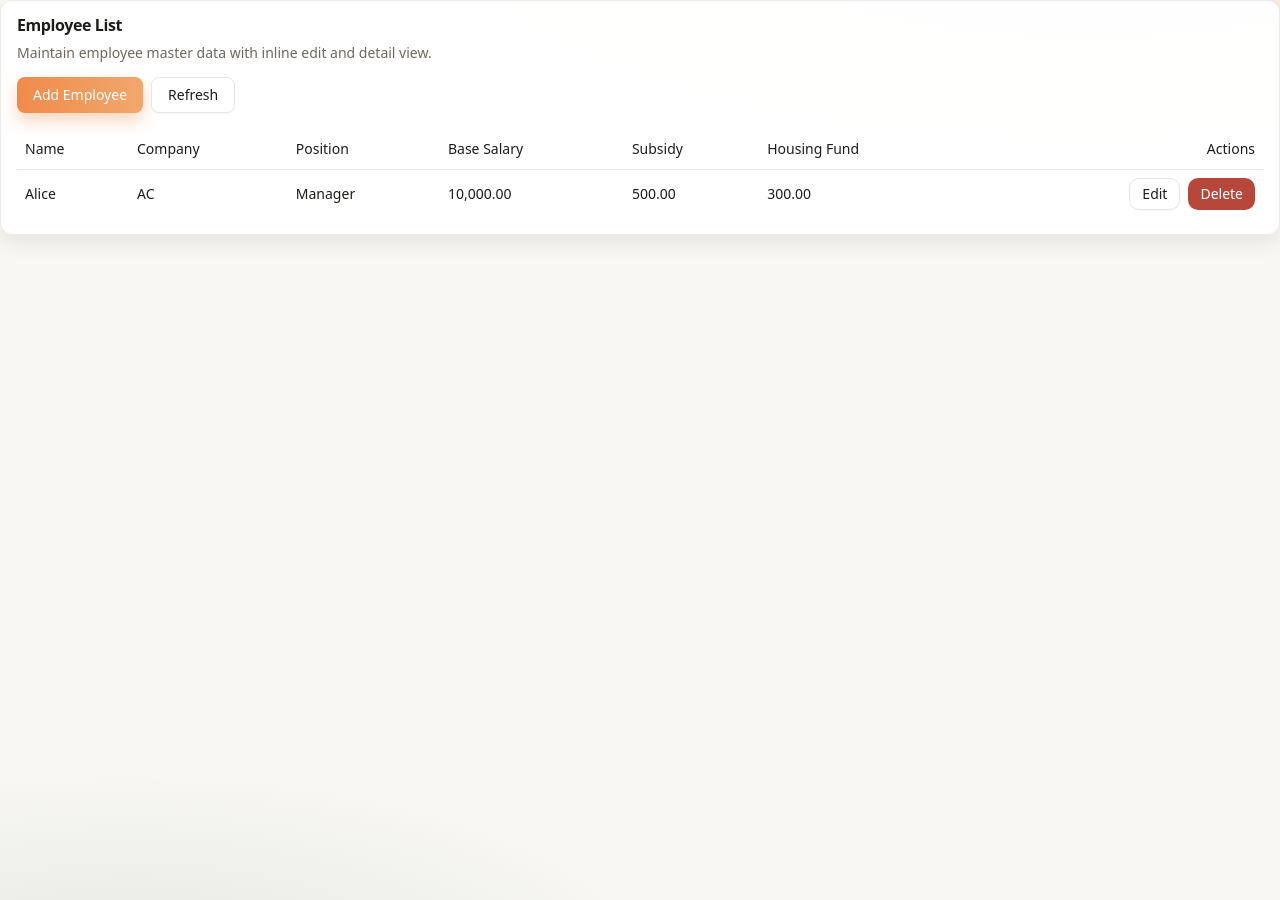
Test case: P1 employee list page › supports inline edit and persists list
Check: the text "Alice" is shown, box left=17, top=169, right=129, bottom=218
Click the button "Edit". click: [1155, 194]
box: left=1129, top=178, right=1180, bottom=210
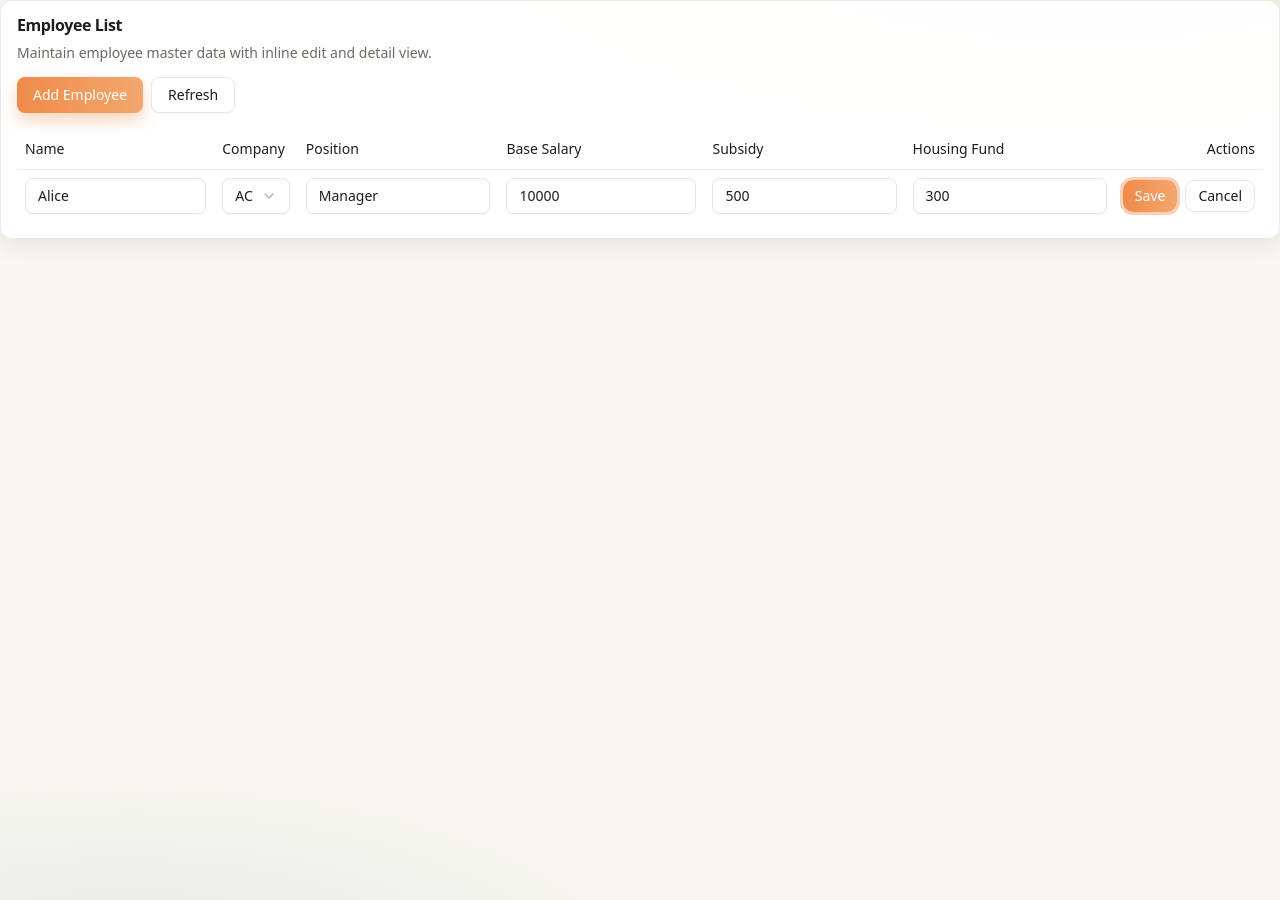
Replace the text in the 1st field showing "Alice" with "Alice Updated". click: [116, 196]
box: left=25, top=178, right=206, bottom=214
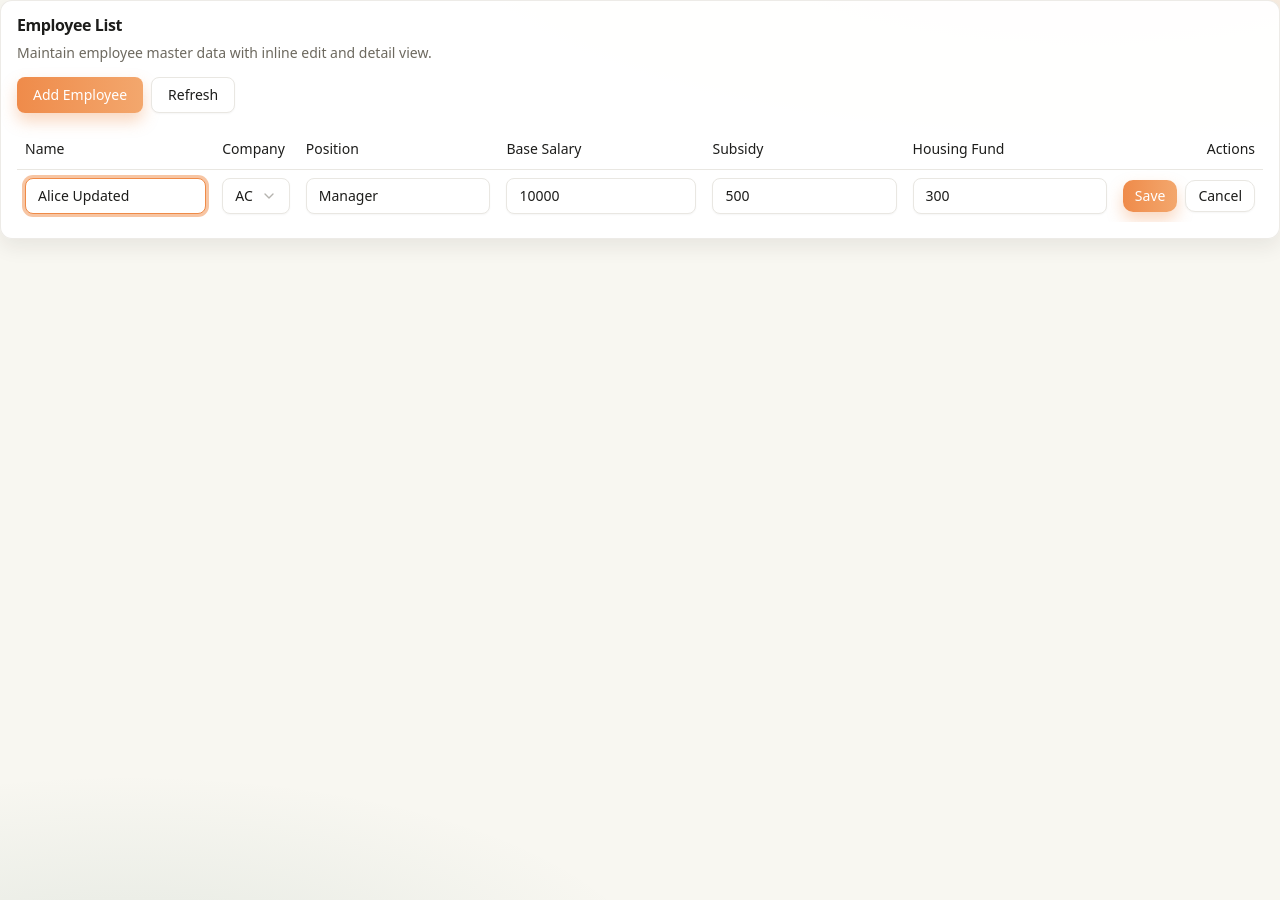
Click the button "Save". click: [1150, 196]
box: left=1123, top=180, right=1177, bottom=212
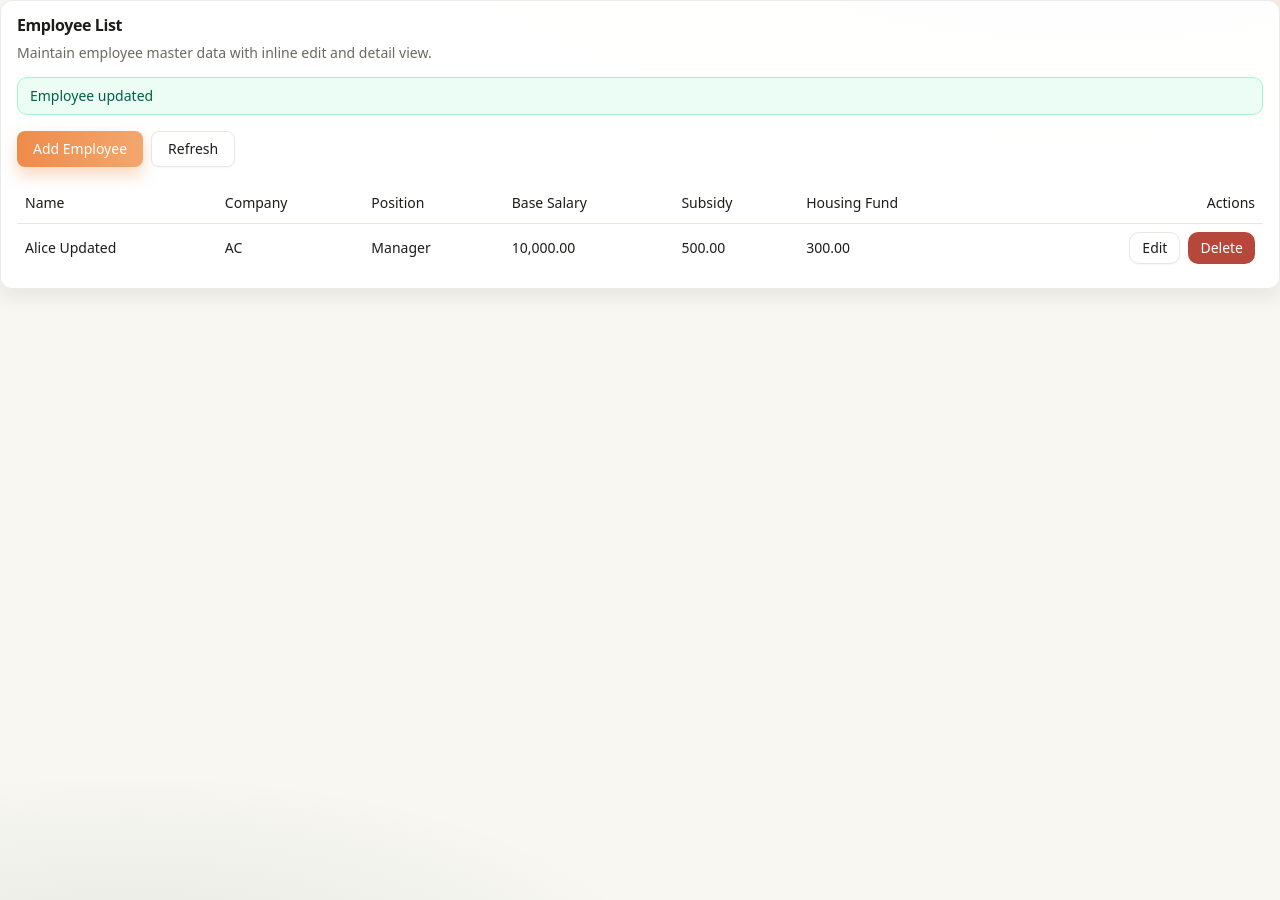
Check: the text "Alice" reads "Alice Updated", box left=25, top=238, right=116, bottom=256
